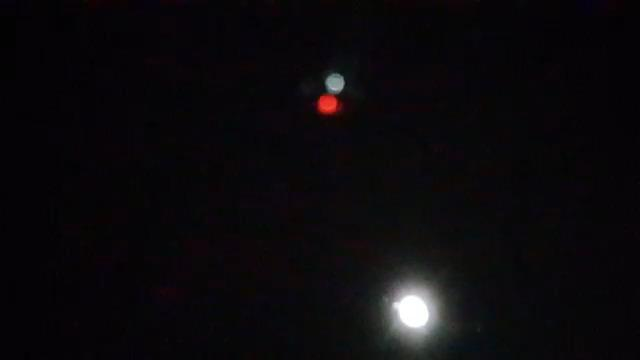Plane: (306, 68, 354, 123)
